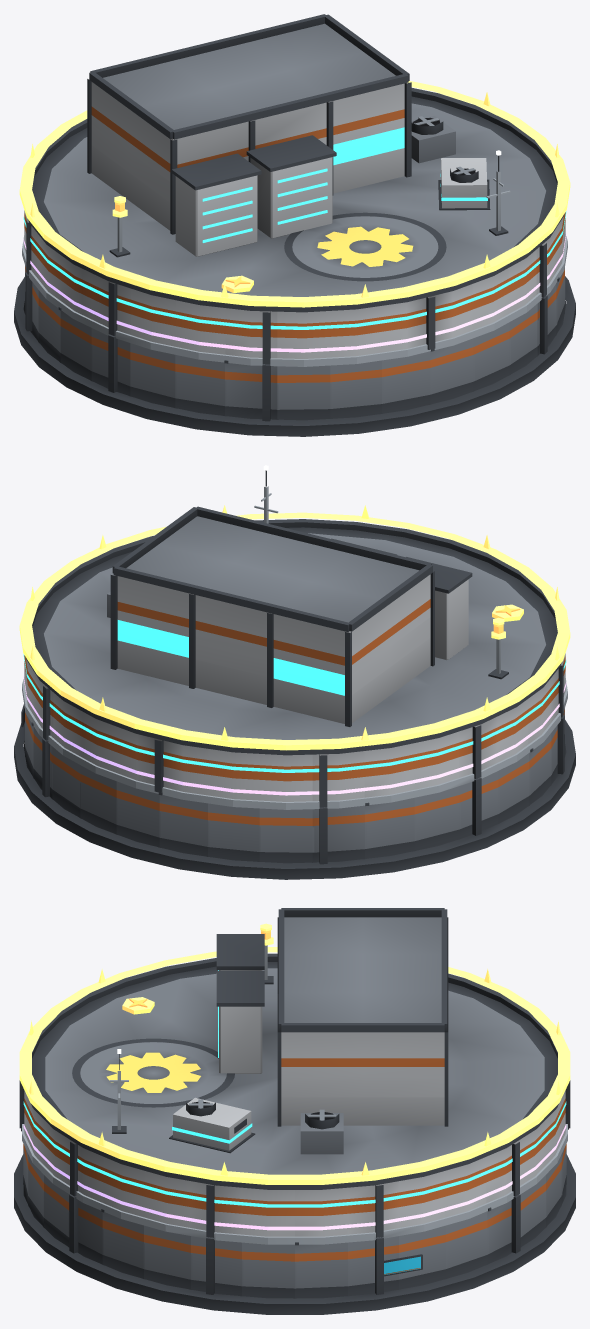
Rendered from battery_plant_s.glb.
The picture shows the model from 3 angles, top to bottom: view 1: azimuth 30°, elevation 25°; view 2: azimuth 150°, elevation 25°; view 3: azimuth 270°, elevation 25°; orthographic projection.
Parts seen in each view (by area): view 1: Roof, Base, Wall_21, Wall_20, Wall_22, Wall_19, Wall_23, L3, Wall_18, Wall_24, Upper_20, Upper_21 (+33 smaller); view 2: Roof, Base, Wall_10, Wall_11, Wall_09, Wall_12, Wall_08, Wall_13, Wall_07, Upper_11, Upper_10, Wall_14 (+33 smaller); view 3: Roof, Base, L3, Wall_00, Wall_31, Wall_30, Wall_29, Wall_01, Wall_28, Upper_01, Upper_30, Wall_03 (+32 smaller).
Boxes of the visible parts, x1,y1,x2,y2 form: Roof: (28,14,563,312); Base: (14,276,575,436); Wall_21: (277,365,330,420); Wall_20: (224,360,277,421); Wall_22: (330,360,381,418); Wall_19: (175,355,224,415); Wall_23: (382,351,430,413); L3: (438,158,490,210); Wall_18: (130,343,175,407); Wall_24: (430,338,473,404); Upper_20: (225,308,277,364); Upper_21: (277,311,329,358); Roof: (26,506,561,755); Base: (14,720,575,879); Wall_10: (259,808,312,863); Wall_11: (312,805,364,864); Wall_09: (208,803,259,861); Wall_12: (365,798,414,858); Wall_08: (158,792,207,856); Wall_13: (414,786,459,850); Wall_07: (116,781,159,847); Upper_11: (312,751,364,807); Upper_10: (260,754,312,801); Wall_14: (459,771,498,838); Roof: (31,908,558,1189); Base: (14,1154,575,1314); L3: (169,1097,255,1153); Wall_00: (295,1242,347,1298); Wall_31: (242,1242,294,1298); Wall_30: (191,1236,241,1296); Wall_29: (143,1225,190,1289); Wall_01: (348,1236,398,1296); Wall_28: (101,1208,143,1278); Upper_01: (347,1181,398,1237); Upper_30: (191,1181,242,1237); Wall_03: (446,1211,487,1278).
Bounding box in the file's own units: 11.74 × 5.16 × 11.74.
